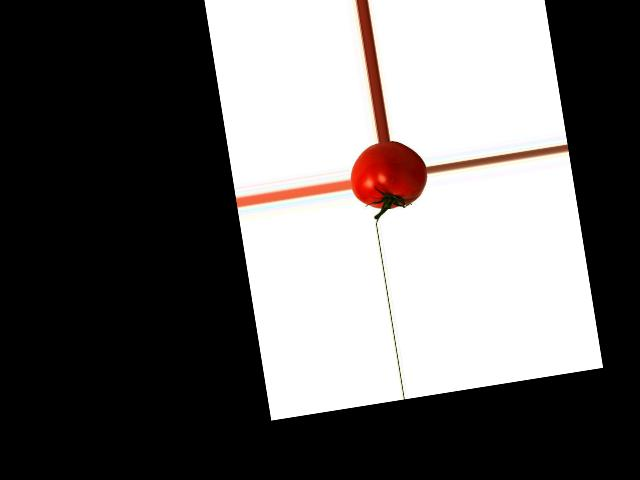tomato: (346, 137, 432, 214)
